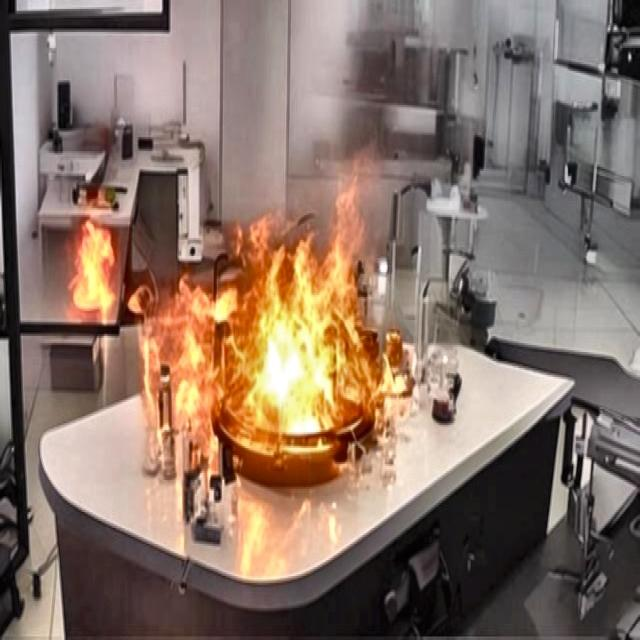fire: (66, 201, 413, 508)
